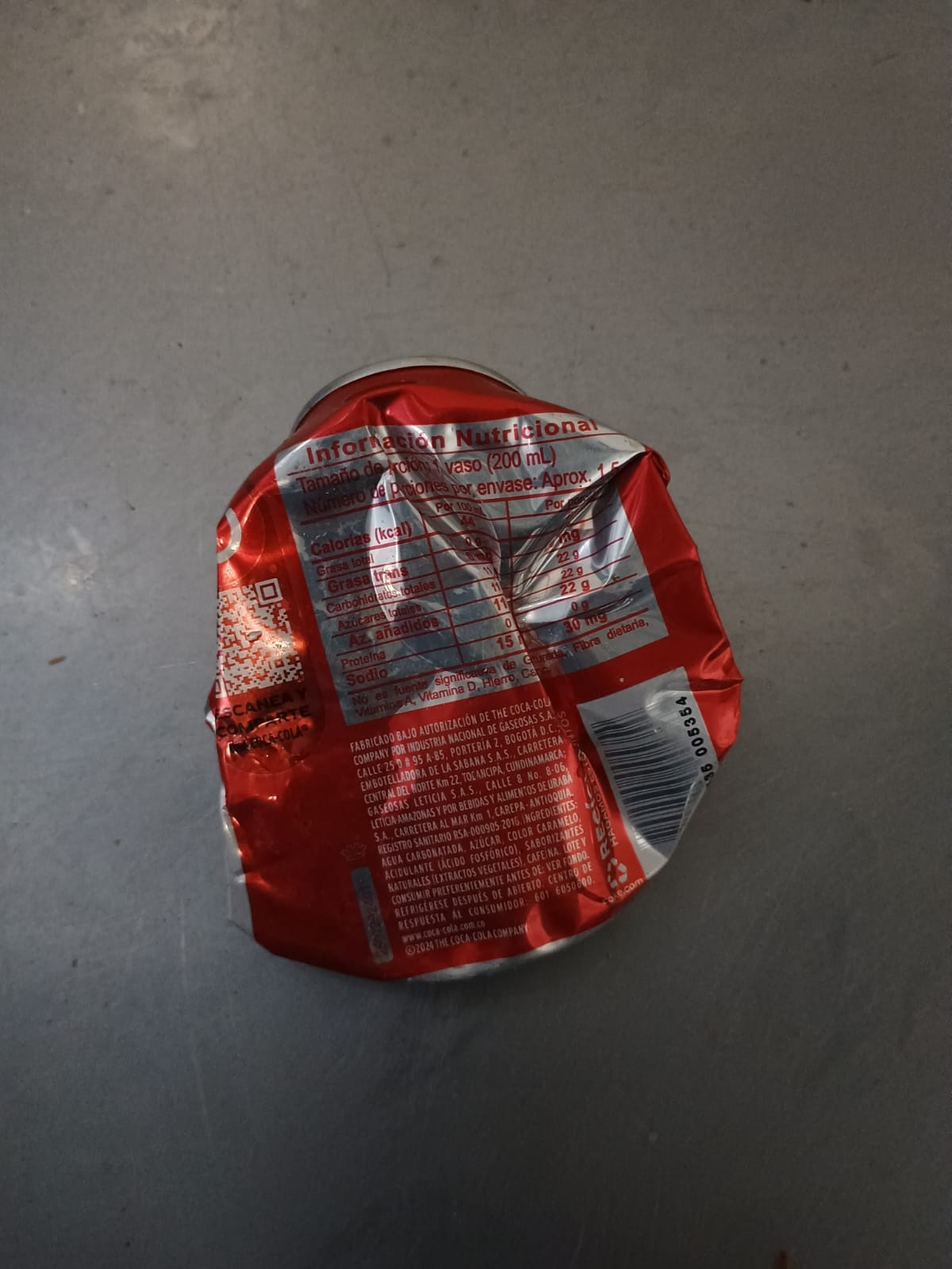Metal: (209, 361, 745, 995)
